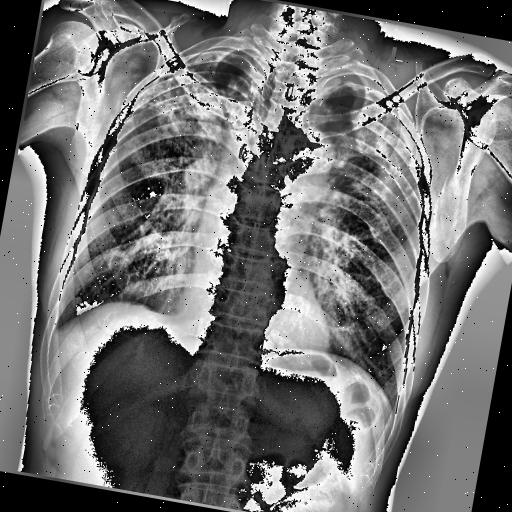0- Aortic enlargement: (268, 118, 336, 196), (276, 124, 334, 192), (280, 121, 340, 181)
1- Atelectasis: (114, 32, 270, 198)
10- Pleural effusion: (44, 313, 64, 342), (48, 318, 70, 342), (44, 321, 62, 343)
11- Pleural thickening: (302, 68, 432, 164), (316, 60, 414, 120), (318, 60, 394, 102), (44, 313, 64, 342), (48, 318, 70, 342), (44, 321, 62, 343)
13- Pulmonary fibrosis: (111, 36, 246, 242), (114, 32, 270, 198), (305, 81, 438, 231)
4- Consolidation: (114, 32, 270, 198), (344, 86, 416, 156), (344, 94, 417, 162)
5- ILD: (271, 108, 426, 329), (111, 36, 246, 242)
6- Infiltration: (114, 32, 270, 198), (305, 81, 438, 231), (308, 132, 420, 304), (124, 53, 234, 200)
7- Lung Opacity: (271, 108, 426, 329), (111, 36, 246, 242), (308, 132, 420, 304), (124, 53, 234, 200)
9- Other lesion: (251, 44, 302, 126)
